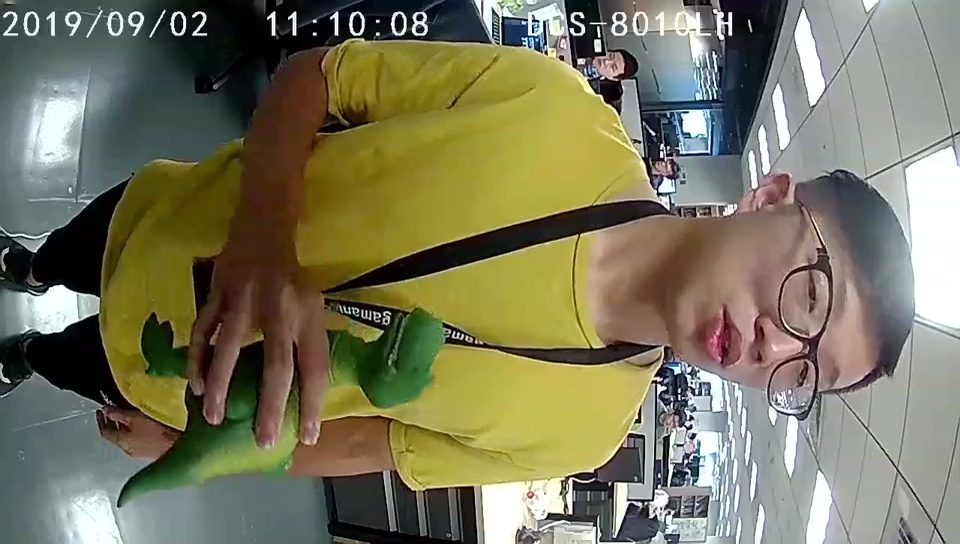rex: (148, 306, 445, 479)
